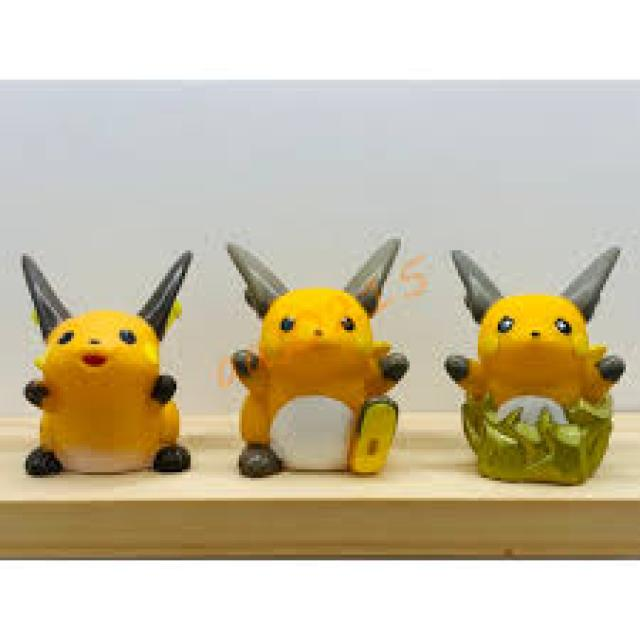Raichu: (27, 266, 184, 468), (242, 265, 398, 467), (461, 263, 609, 432)
